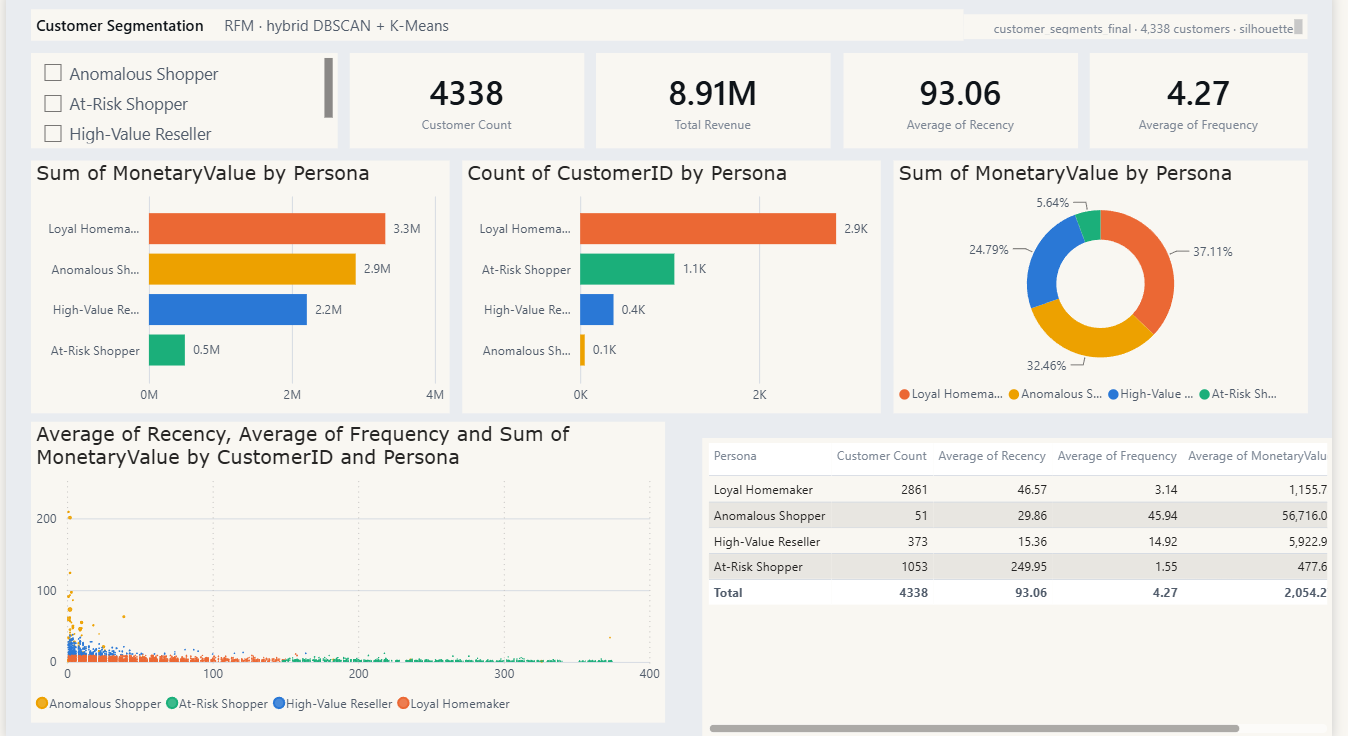

Layout of this report page (visuals, bound fields, positions):
{"tool":"powerbi","page":{"name":"Segment Console","canvas":[1280,720],"ordinal":0},"visuals":[{"type":"textbox","box":[24,16,900,30],"z":1000},{"type":"textbox","box":[924,20,332,24],"z":2000},{"type":"slicer","fields":{"Values":["customer_segments_final.Persona"]},"box":[24,58,296,92],"z":3000},{"type":"card","fields":{"Values":["Key Measures.Customer Count"]},"box":[332,58,226,92],"z":4000},{"type":"card","fields":{"Values":["Key Measures.Total Revenue"]},"box":[570,58,226,92],"z":5000},{"type":"card","fields":{"Values":["Avg(customer_segments_final.Recency)"]},"box":[808,58,226,92],"z":6000},{"type":"card","fields":{"Values":["Avg(customer_segments_final.Frequency)"]},"box":[1046,58,210,92],"z":7000},{"type":"barChart","fields":{"Category":["customer_segments_final.Persona"],"Y":["Sum(customer_segments_final.MonetaryValue)"]},"box":[24,162,404,244],"z":8000},{"type":"barChart","fields":{"Category":["customer_segments_final.Persona"],"Y":["CountNonNull(customer_segments_final.CustomerID)"]},"box":[440,162,404,244],"z":9000},{"type":"donutChart","fields":{"Category":["customer_segments_final.Persona"],"Y":["Sum(customer_segments_final.MonetaryValue)"]},"box":[856,162,400,244],"z":10000},{"type":"scatterChart","fields":{"Category":["customer_segments_final.CustomerID"],"Series":["customer_segments_final.Persona"],"Size":["Sum(customer_segments_final.MonetaryValue)"],"X":["Avg(customer_segments_final.Recency)"],"Y":["Avg(customer_segments_final.Frequency)"]},"box":[24,414,612,290],"z":11000},{"type":"tableEx","fields":{"Values":["customer_segments_final.Persona","Key Measures.Customer Count","Avg(customer_segments_final.Recency)","Avg(customer_segments_final.Frequency)","Avg(customer_segments_final.MonetaryValue)","Key Measures.Total Revenue"]},"box":[672,429.5,608,290],"z":12000}]}

Visuals, with their boxes on the page's 1280x720 design canvas (x1, y1, x2, y2). These are canvas units, not pixel positions in the 1348x736 screenshot, which may show the page scaled, cropped or inside an application window:
textbox: x1=24, y1=16, x2=924, y2=46
textbox: x1=924, y1=20, x2=1256, y2=44
slicer - customer_segments_final.Persona: x1=24, y1=58, x2=320, y2=150
card - Key Measures.Customer Count: x1=332, y1=58, x2=558, y2=150
card - Key Measures.Total Revenue: x1=570, y1=58, x2=796, y2=150
card - Avg(customer_segments_final.Recency): x1=808, y1=58, x2=1034, y2=150
card - Avg(customer_segments_final.Frequency): x1=1046, y1=58, x2=1256, y2=150
barChart - customer_segments_final.Persona x Sum(customer_segments_final.MonetaryValue): x1=24, y1=162, x2=428, y2=406
barChart - customer_segments_final.Persona x CountNonNull(customer_segments_final.CustomerID): x1=440, y1=162, x2=844, y2=406
donutChart - customer_segments_final.Persona x Sum(customer_segments_final.MonetaryValue): x1=856, y1=162, x2=1256, y2=406
scatterChart - customer_segments_final.CustomerID x customer_segments_final.Persona: x1=24, y1=414, x2=636, y2=704
tableEx - customer_segments_final.Persona x Key Measures.Customer Count: x1=672, y1=430, x2=1280, y2=720
